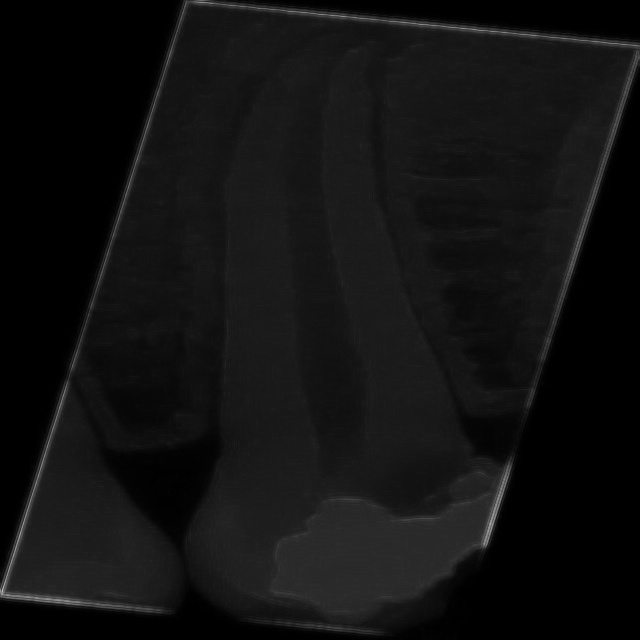Class 2- incomplete endodontic treatment: (40, 19, 636, 632)
